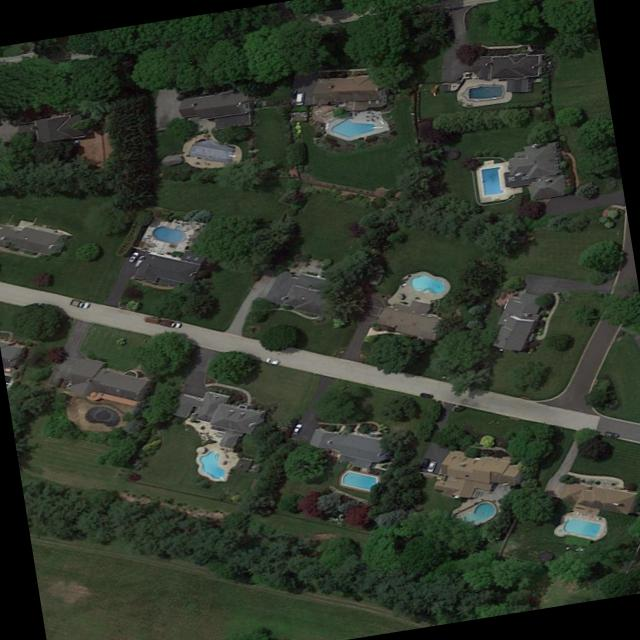large-vehicle: (144, 315, 183, 330)
small-vehicle: (70, 299, 92, 310), (133, 253, 148, 269), (602, 430, 623, 440), (425, 459, 438, 474), (264, 356, 283, 366), (291, 422, 305, 435), (127, 251, 140, 265), (295, 92, 305, 106), (419, 391, 436, 399), (418, 458, 430, 469)
